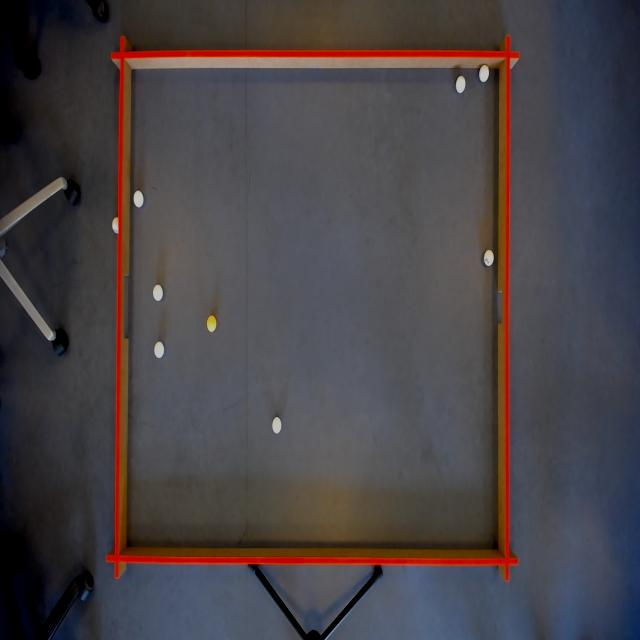orange_ball: (204, 314, 217, 333)
white_ball: (151, 282, 164, 305), (152, 339, 165, 360), (454, 74, 466, 96), (483, 247, 495, 269), (110, 216, 122, 237), (272, 415, 283, 436), (478, 63, 489, 84), (133, 190, 144, 210)
